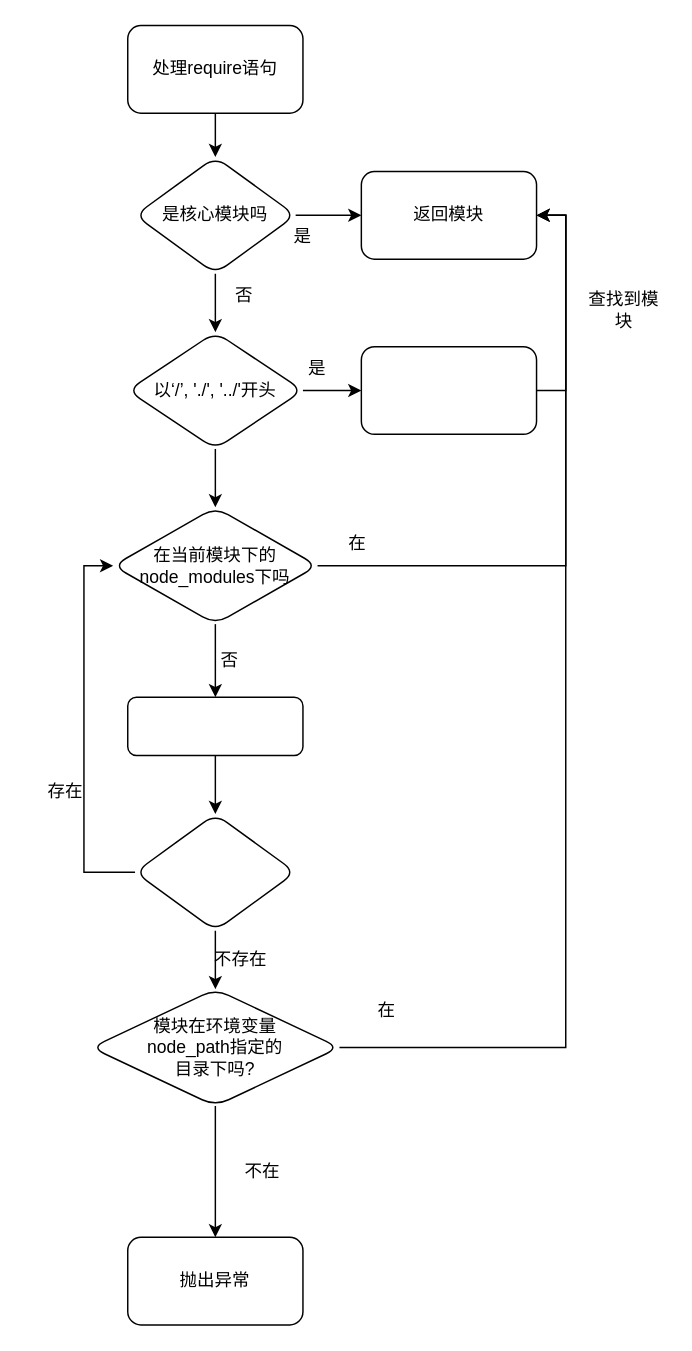
Image size: 692x1351. Some labels were removed from this diagram. The shapes that lost their labels are listed below. From the top down, each one's box as (x1, y1, x2, y2) in pixels, then its label:
(360, 345, 537, 434): 根据路径在当前文件下查找
(126, 696, 303, 756): 尝试进去父目录
(134, 812, 296, 931): 父目录存在?
